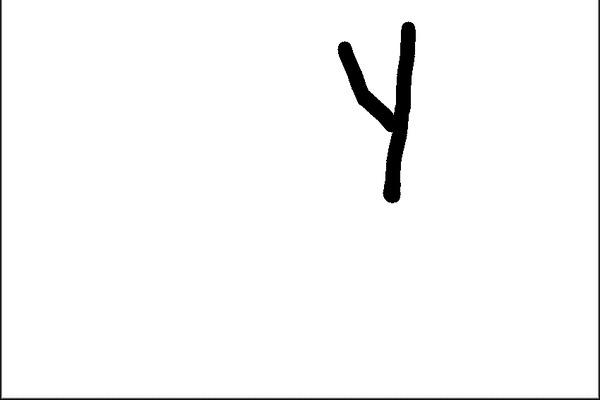Y: (324, 14, 443, 211)
